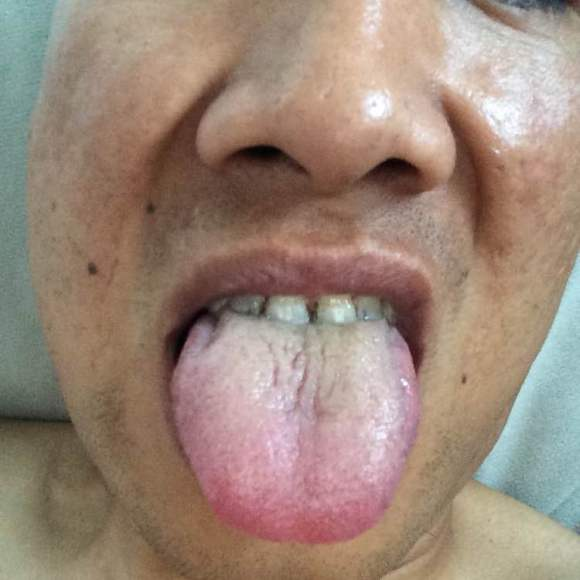hongshe: (172, 309, 418, 542)
huangtaishe: (172, 309, 418, 542)
liewenshe: (260, 338, 330, 421)
